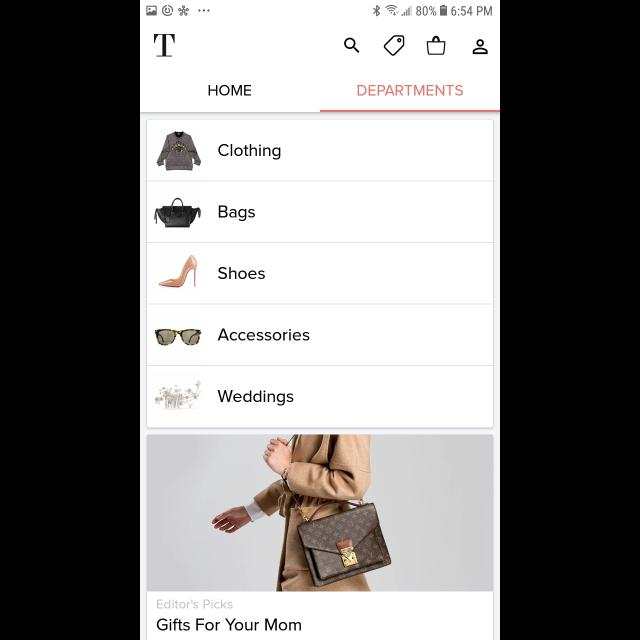icon: (384, 36, 404, 56), (426, 36, 446, 56), (344, 38, 360, 54), (472, 39, 488, 55)
image: (146, 434, 494, 592), (156, 131, 202, 171), (154, 198, 202, 228), (154, 380, 202, 410), (158, 255, 198, 288), (154, 329, 202, 346)
text: (156, 618, 302, 630), (357, 84, 463, 96), (218, 390, 294, 406), (218, 328, 310, 340), (218, 144, 282, 160), (157, 599, 233, 609), (218, 266, 266, 280), (218, 205, 256, 221), (154, 34, 176, 58), (208, 85, 252, 96)
uppertaskbar: (140, 1, 500, 18)
